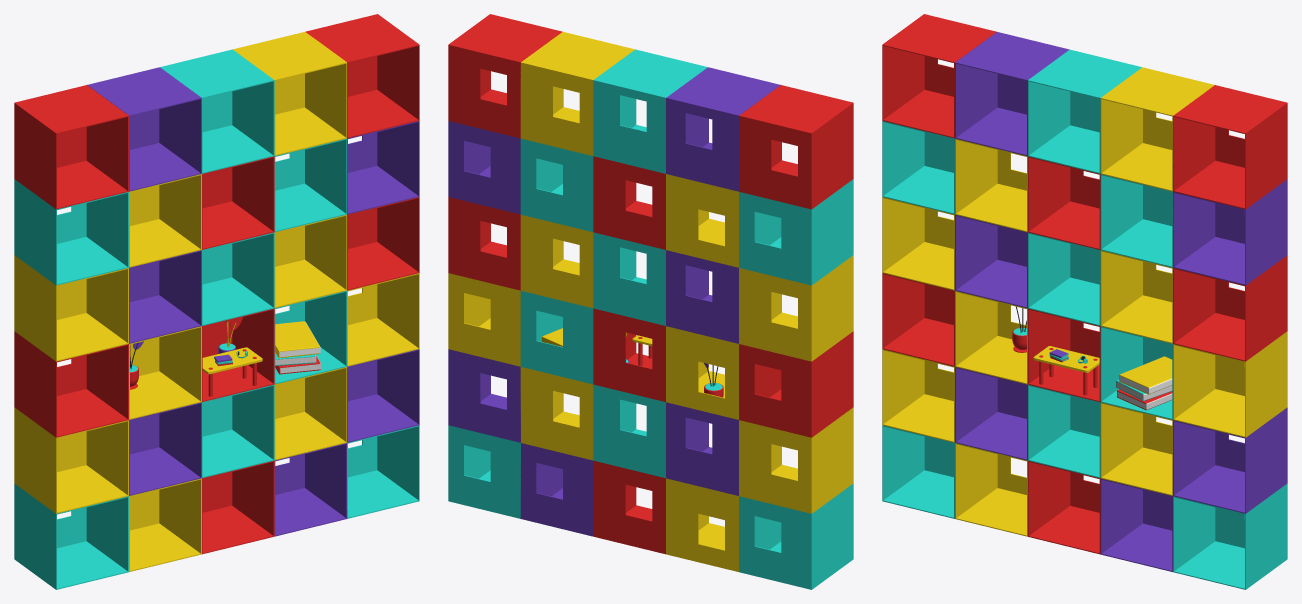
The model's file is ttc-explainer-poc-static.glb.
The picture shows the model from 3 angles, left to right: view 1: azimuth 30°, elevation 25°; view 2: azimuth 150°, elevation 25°; view 3: azimuth 330°, elevation 25°; orthographic projection.
Parts seen in each view (by area): view 1: outer - baked 23, outer - baked 19, outer - baked 21, outer - baked 20, outer - baked 18, outer - baked 22, outer - baked 7, outer - baked 3, outer - baked 29, outer - baked 11, outer - baked 25, outer - baked 1 (+20 smaller); view 2: outer - baked 23, outer - baked 20, outer - baked 18, outer - baked 22, outer - baked 7, outer - baked 19, outer - baked 21, outer - baked 11, outer - baked 3, outer - baked 29, outer - baked 9, outer - baked 16 (+18 smaller); view 3: outer - baked 29, outer - baked 26, outer - baked 24, outer - baked 28, outer - baked 25, outer - baked 27, outer - baked 3, outer - baked 7, outer - baked 11, outer - baked 23, outer - baked 9, outer - baked 4 (+20 smaller).
Boxes of the visible parts, x1,y1,x2,y2 form: outer - baked 23: (14,85,128,209); outer - baked 19: (14,407,128,513); outer - baked 21: (14,255,128,361); outer - baked 20: (14,331,128,437); outer - baked 18: (14,483,128,589); outer - baked 22: (14,179,128,285); outer - baked 7: (87,67,201,191); outer - baked 3: (160,49,274,173); outer - baked 29: (305,14,419,138); outer - baked 11: (233,32,346,155); outer - baked 25: (347,349,419,442); outer - baked 1: (202,156,274,249); outer - baked 23: (739,85,853,209); outer - baked 20: (739,331,853,437); outer - baked 18: (739,483,853,589); outer - baked 22: (739,179,853,285); outer - baked 7: (666,67,780,191); outer - baked 19: (739,407,853,513); outer - baked 21: (739,255,853,361); outer - baked 11: (520,32,634,155); outer - baked 3: (593,49,707,173); outer - baked 29: (448,14,562,138); outer - baked 9: (520,138,593,231); outer - baked 16: (520,443,593,536); outer - baked 29: (1173,85,1287,209); outer - baked 26: (1173,331,1287,437); outer - baked 24: (1173,483,1287,589); outer - baked 28: (1173,179,1287,285); outer - baked 25: (1173,407,1287,513); outer - baked 27: (1173,255,1287,361); outer - baked 3: (1028,49,1141,173); outer - baked 7: (955,32,1069,156); outer - baked 11: (1100,67,1214,191); outer - baked 23: (882,14,996,138); outer - baked 9: (1100,174,1173,267); outer - baked 4: (1028,232,1100,326).
Size of the model in its own units: 2 by 2.4 by 0.4086.
